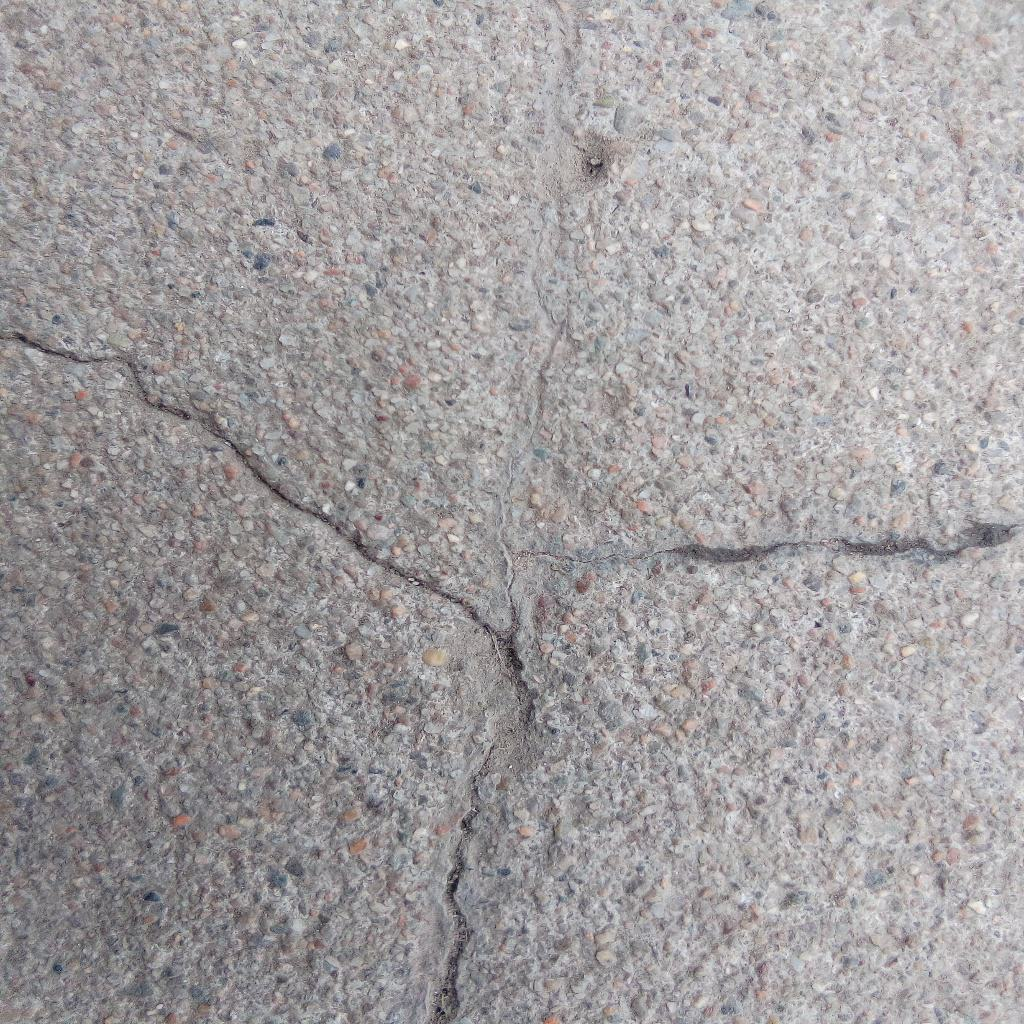Crack: (1, 331, 506, 638), (437, 638, 536, 1024), (525, 516, 1024, 572)
